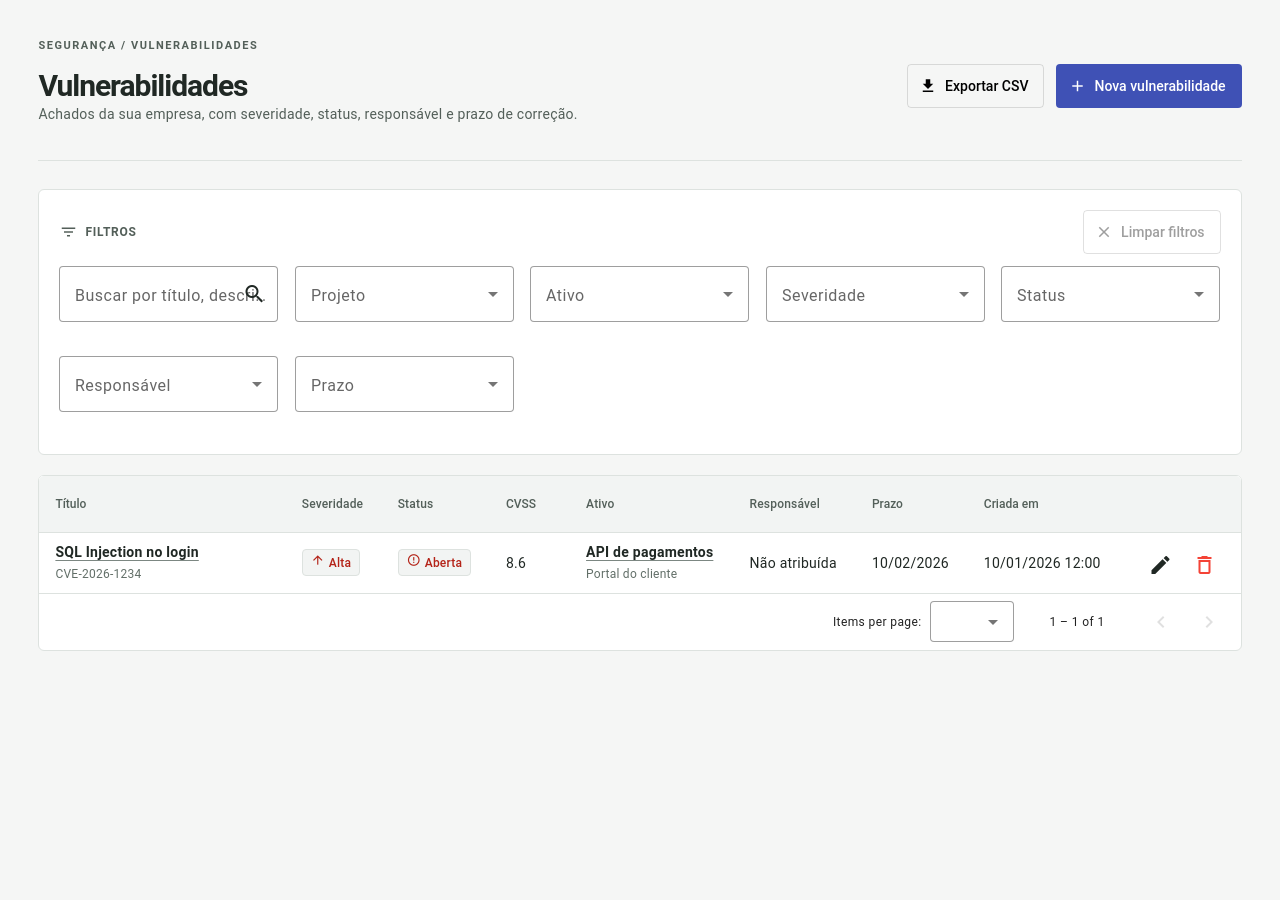
Scenario: VulnerabilityListComponent › lê o corpo de erro em blob e mostra a mensagem do backend, não a genérica
The width and height of the screenshot is (1280, 900).
Click the button with test id "vulnerability-export".
click(976, 86)  # box x1=907 y1=64 x2=1044 y2=108
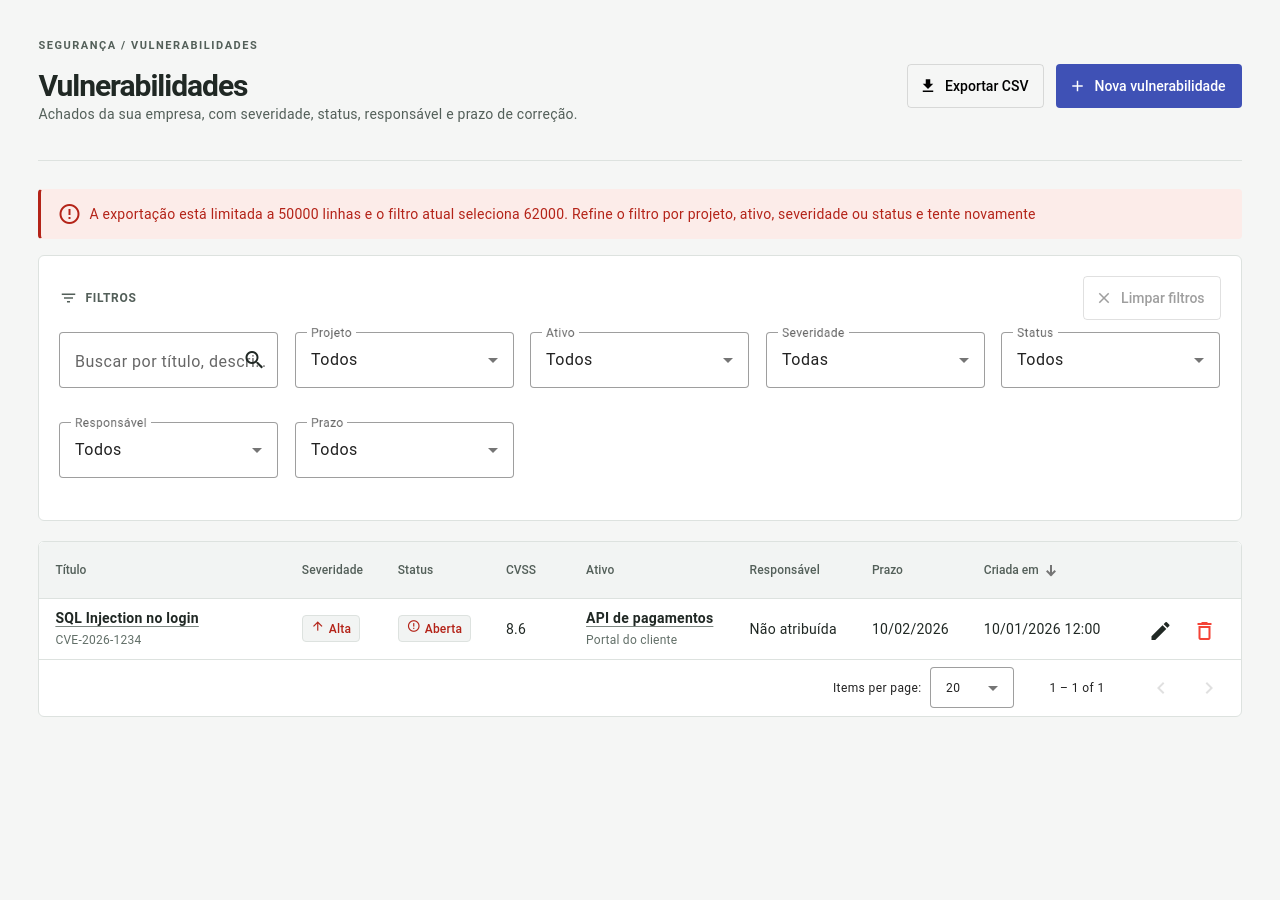
Now the text "Refine o filtro" is shown, box x1=89 y1=206 x2=1036 y2=222
